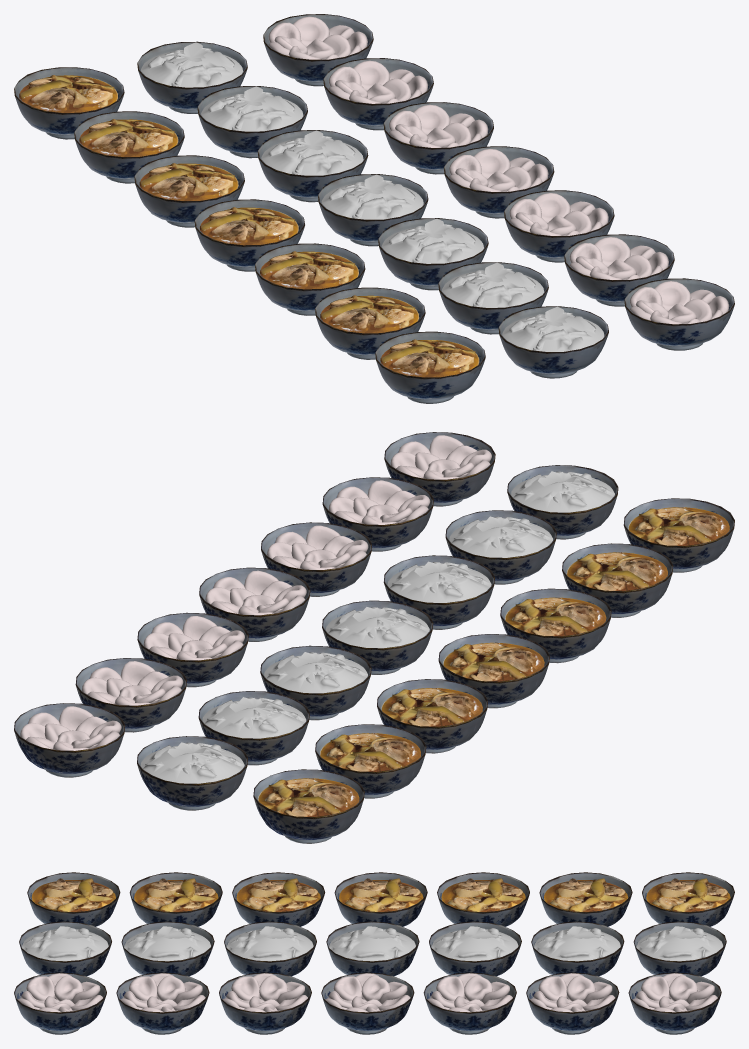
File: MutiBowl.fbx
The picture shows the model from 3 angles, top to bottom: view 1: azimuth 30°, elevation 25°; view 2: azimuth 150°, elevation 25°; view 3: azimuth 270°, elevation 25°; orthographic projection. The views are drawn at different scales.
Visible parts, largest first — view 1: TunGuo, MaYoGee.001, YoFan; view 2: MaYoGee.001, TunGuo, YoFan; view 3: TunGuo, YoFan, MaYoGee.001.
Boxes of the visible parts, box(x1,y1,x2,y2) form: TunGuo: box(263, 14, 734, 350); MaYoGee.001: box(14, 67, 485, 403); YoFan: box(137, 41, 608, 378); MaYoGee.001: box(253, 498, 734, 843); TunGuo: box(14, 432, 495, 777); YoFan: box(137, 465, 618, 810); TunGuo: box(14, 972, 721, 1034); YoFan: box(19, 921, 726, 976); MaYoGee.001: box(27, 872, 734, 926).
Size of the model in its own units: 64.8 by 9.52 by 141.
